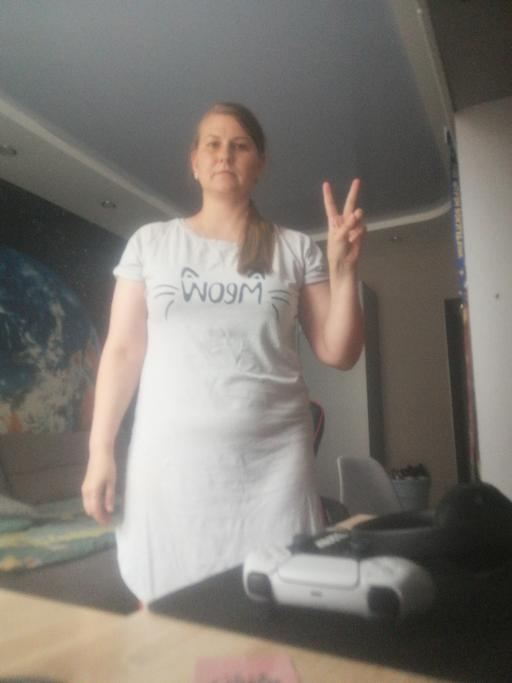no_gesture: (78, 450, 121, 527)
peace: (317, 174, 367, 271)
